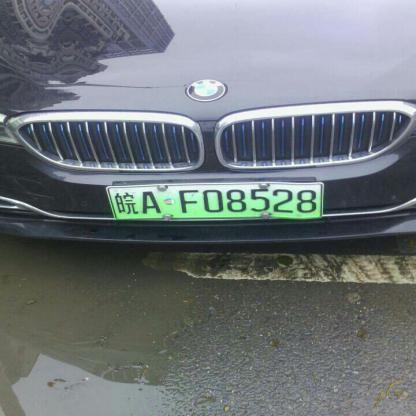lp: (106, 182, 324, 220)
